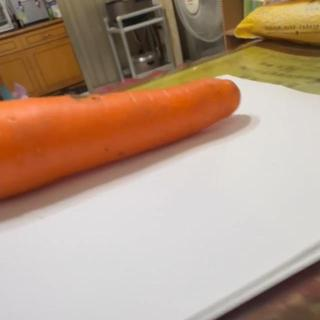carrot: (0, 75, 240, 204)
